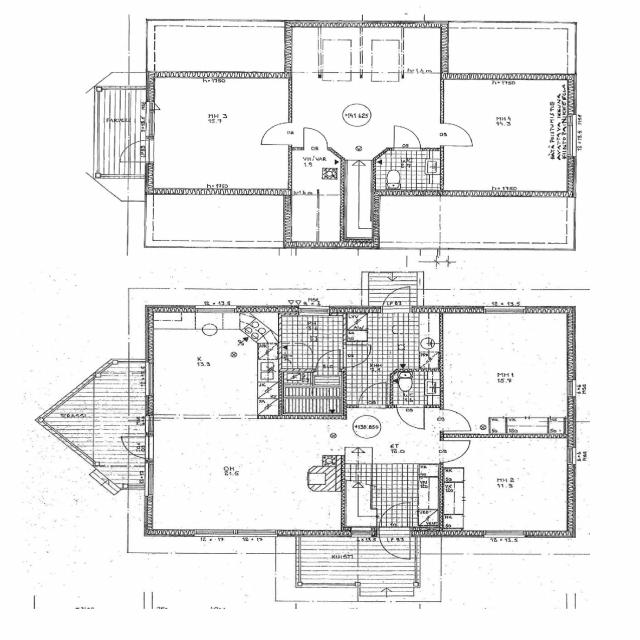door: (379, 502, 410, 538), (379, 528, 410, 562), (118, 140, 155, 162), (382, 283, 410, 312), (342, 344, 375, 367), (120, 437, 156, 458), (259, 122, 292, 144), (440, 123, 472, 145), (358, 384, 386, 408), (440, 441, 471, 462), (440, 410, 471, 431), (397, 405, 424, 429), (394, 126, 421, 150), (304, 128, 327, 150), (318, 351, 340, 372)
